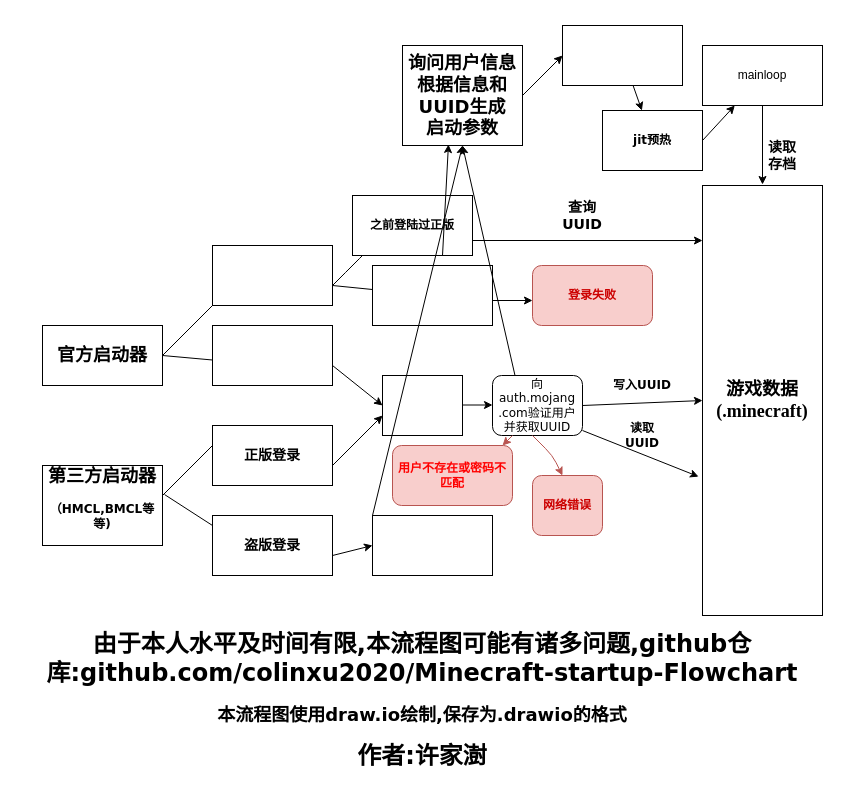
The diagram is 844 pixels wide and 804 high, and some of its shapes have lost their labels. The shapes that lost their labels are listed below. From the top down, each one's centre as x and y in pixels, then its label:
At point 622,55: "javaw 启动游戏".
At point 272,275: "离线登录".
At point 432,295: "之前没有登陆过正版".
At point 272,355: "在线登录".
At point 422,405: "authlib".
At point 432,545: "询问用户名 随机生成UUID".
